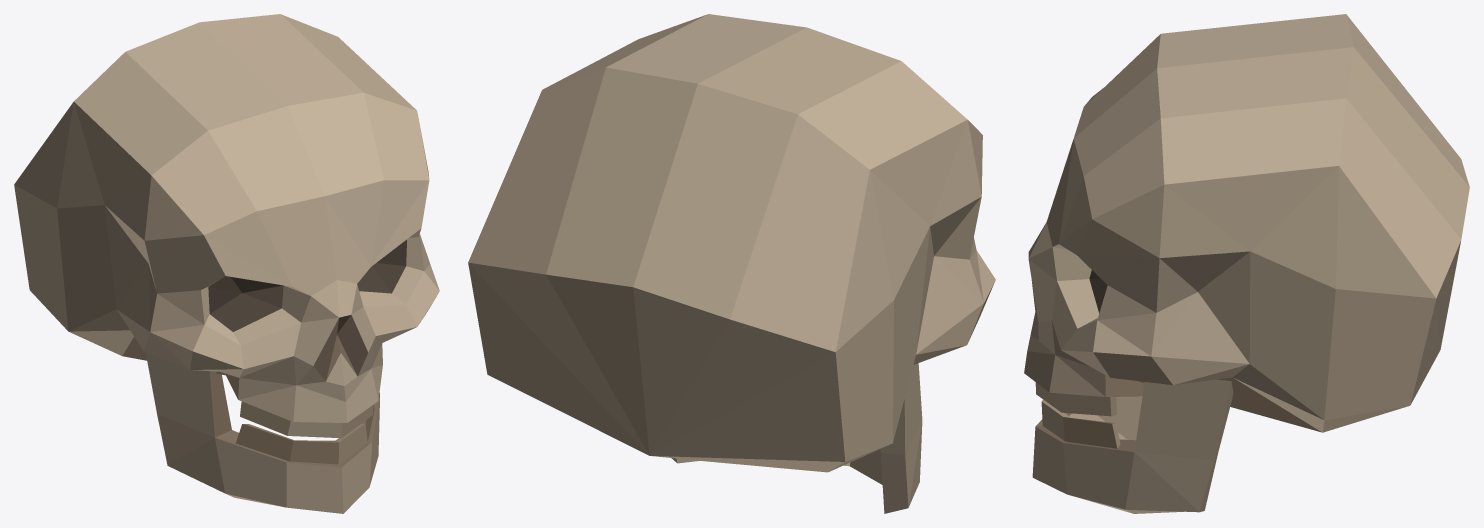
The model's file is crypt_skull.gltf.
3 renders of one model, left to right at view 1: azimuth 30°, elevation 25°; view 2: azimuth 150°, elevation 25°; view 3: azimuth 270°, elevation 25°, orthographic. The views are drawn at different scales.
Parts seen in each view (by area): view 1: crypt_skull; view 2: crypt_skull; view 3: crypt_skull.
Boxes of the visible parts, x1=… form: crypt_skull: x1=14, y1=14, x2=439, y2=513; crypt_skull: x1=468, y1=14, x2=995, y2=513; crypt_skull: x1=1024, y1=14, x2=1469, y2=513.
Bounding box in the file's own units: 0.2242 × 0.2839 × 0.2583.
Materials: 1 (1 with a texture image).
